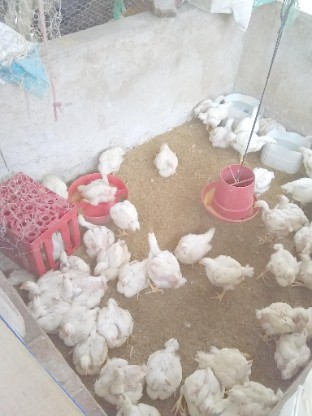Pollos: (251, 296, 309, 343), (143, 229, 184, 294), (200, 253, 253, 300), (221, 372, 277, 414), (144, 338, 181, 396), (273, 327, 311, 382), (177, 367, 217, 414), (96, 356, 142, 396), (99, 300, 136, 349), (261, 240, 297, 290), (59, 306, 104, 344), (204, 344, 251, 380), (70, 332, 110, 374), (92, 239, 132, 281), (175, 227, 214, 269), (253, 195, 289, 238), (63, 273, 106, 308), (77, 209, 111, 253), (118, 257, 154, 296), (27, 294, 68, 327), (94, 144, 127, 183), (19, 270, 67, 296), (230, 132, 277, 158), (73, 179, 113, 208), (275, 190, 307, 226), (153, 140, 181, 179), (109, 202, 141, 236), (37, 170, 68, 204), (284, 169, 312, 206), (117, 392, 159, 416), (247, 162, 274, 197), (58, 249, 92, 276), (192, 102, 233, 124), (289, 251, 312, 288), (44, 230, 70, 262), (234, 101, 260, 133), (210, 118, 233, 146), (294, 220, 312, 253), (197, 92, 224, 110), (300, 141, 312, 175), (265, 114, 280, 133), (303, 130, 312, 145)
